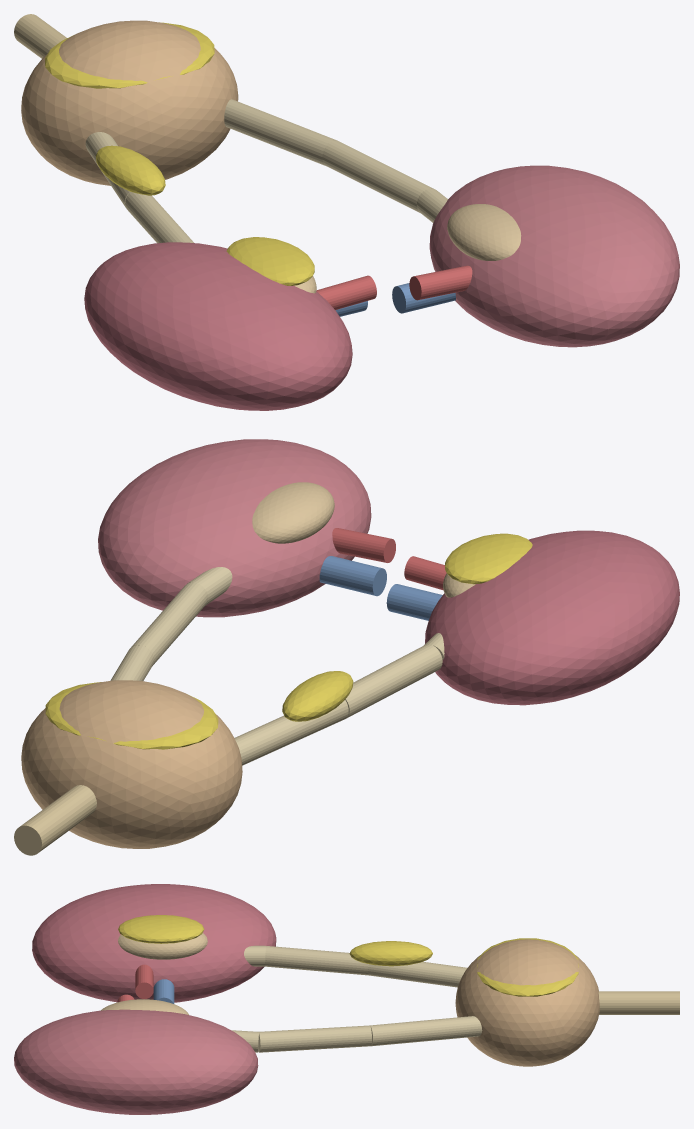
Rendered from kidney_urinary_educational.glb.
3 views of the same model, one above another, from view 1: azimuth 30°, elevation 25°; view 2: azimuth 150°, elevation 25°; view 3: azimuth 270°, elevation 25° (orthographic). The views are drawn at different scales.
Visible parts, largest first — view 1: Ginjal Kanan, Ginjal Kiri, Kandung Kemih, Pelvis Renalis Kiri, Ureter Kiri_3, Ureter Kiri_2, Infeksi Pelvis Ginjal Kanan, Infeksi Ureter Kanan, Infeksi Kandung Kemih, Ureter Kanan_2, Arteri Renalis Kiri, Uretra (+4 smaller); view 2: Ginjal Kanan, Ginjal Kiri, Kandung Kemih, Pelvis Renalis Kiri, Infeksi Pelvis Ginjal Kanan, Ureter Kanan_2, Uretra, Ureter Kanan_3, Infeksi Ureter Kanan, Ureter Kiri_2, Infeksi Kandung Kemih, Vena Renalis Kiri (+5 smaller); view 3: Ginjal Kiri, Ginjal Kanan, Kandung Kemih, Ureter Kiri_2, Ureter Kiri_3, Ureter Kanan_2, Infeksi Pelvis Ginjal Kanan, Uretra, Infeksi Ureter Kanan, Ureter Kanan_3, Pelvis Renalis Kanan, Infeksi Kandung Kemih (+4 smaller).
Boxes of the visible parts, left/top/right/bottom form: Ginjal Kanan: left=84, top=242, right=352, bottom=410; Ginjal Kiri: left=429, top=165, right=679, bottom=347; Kandung Kemih: left=21, top=20, right=238, bottom=185; Pelvis Renalis Kiri: left=447, top=204, right=521, bottom=260; Ureter Kiri_3: left=224, top=99, right=336, bottom=165; Ureter Kiri_2: left=322, top=140, right=433, bottom=212; Infeksi Pelvis Ginjal Kanan: left=226, top=237, right=314, bottom=285; Infeksi Ureter Kanan: left=95, top=145, right=165, bottom=195; Infeksi Kandung Kemih: left=45, top=22, right=214, bottom=88; Ureter Kanan_2: left=125, top=192, right=193, bottom=243; Arteri Renalis Kiri: left=409, top=265, right=472, bottom=300; Uretra: left=14, top=14, right=66, bottom=58; Ginjal Kanan: left=425, top=530, right=679, bottom=705; Ginjal Kiri: left=98, top=439, right=371, bottom=617; Kandung Kemih: left=21, top=680, right=242, bottom=848; Pelvis Renalis Kiri: left=252, top=482, right=334, bottom=543; Infeksi Pelvis Ginjal Kanan: left=445, top=533, right=532, bottom=584; Ureter Kanan_2: left=345, top=644, right=442, bottom=718; Uretra: left=14, top=785, right=96, bottom=855; Ureter Kanan_3: left=234, top=700, right=348, bottom=765; Infeksi Ureter Kanan: left=282, top=671, right=353, bottom=721; Ureter Kiri_2: left=130, top=582, right=207, bottom=665; Infeksi Kandung Kemih: left=45, top=682, right=218, bottom=749; Vena Renalis Kiri: left=319, top=556, right=386, bottom=596; Ginjal Kiri: left=14, top=1009, right=258, bottom=1114; Ginjal Kanan: left=32, top=884, right=276, bottom=1002; Kandung Kemih: left=455, top=939, right=599, bottom=1066; Ureter Kiri_2: left=258, top=1025, right=371, bottom=1052; Ureter Kiri_3: left=370, top=1016, right=482, bottom=1046; Ureter Kanan_2: left=265, top=946, right=368, bottom=975; Infeksi Pelvis Ginjal Kanan: left=118, top=915, right=204, bottom=943; Uretra: left=598, top=991, right=679, bottom=1014; Infeksi Ureter Kanan: left=349, top=941, right=432, bottom=966; Ureter Kanan_3: left=368, top=961, right=467, bottom=987; Pelvis Renalis Kanan: left=118, top=933, right=207, bottom=959; Infeksi Kandung Kemih: left=477, top=938, right=578, bottom=996.
Bounding box in the file's own units: 3.24 × 0.84 × 4.78.
